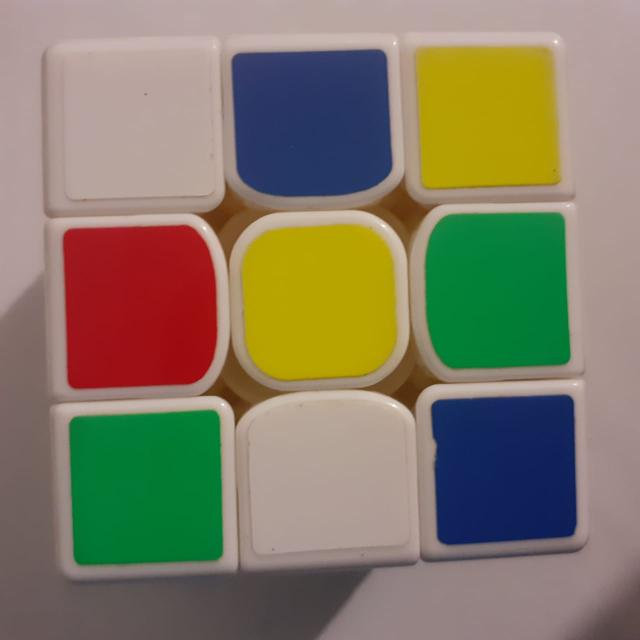Blue: (232, 40, 400, 204), (425, 385, 569, 537)
Green: (71, 406, 235, 582), (418, 207, 572, 376)
Red: (52, 220, 224, 390)
White: (246, 396, 417, 558), (49, 48, 219, 208)
Yellow: (230, 210, 408, 380), (411, 38, 571, 196)
